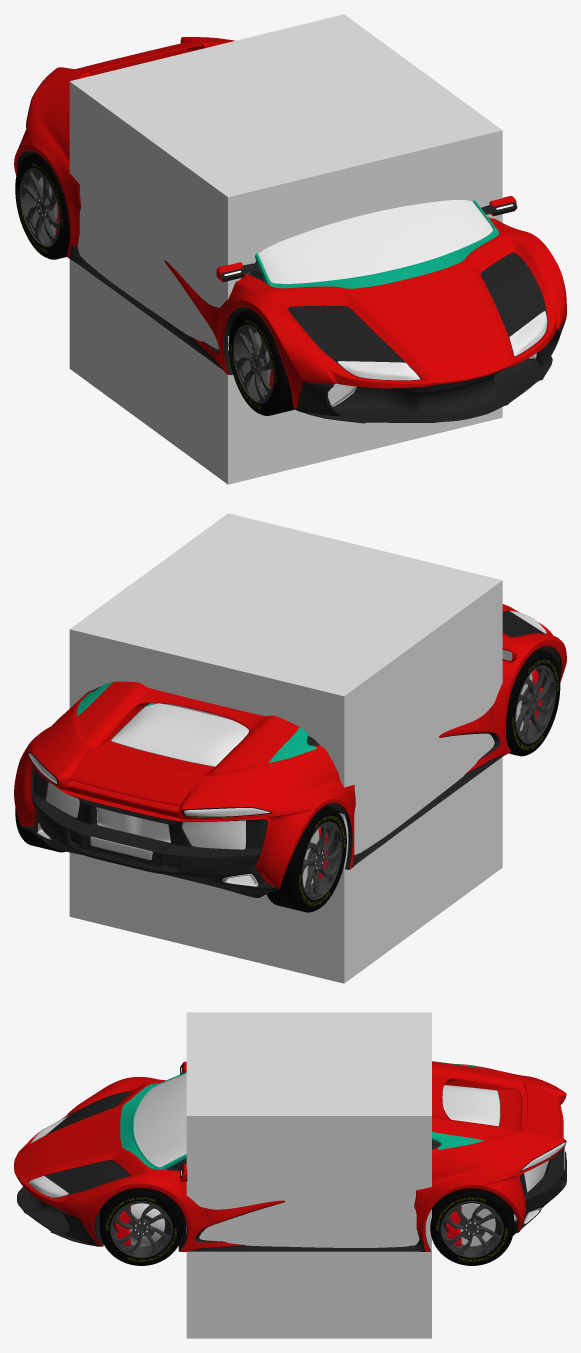
The model's file is CANCER CURING DRUG 100% REAL.glb.
The picture shows the model from 3 angles, top to bottom: view 1: azimuth 30°, elevation 25°; view 2: azimuth 150°, elevation 25°; view 3: azimuth 270°, elevation 25°; orthographic projection. The views are drawn at different scales.
Visible parts, largest first — view 1: Cube, carbody, wind shield, Circle.015, Circle.026, Circle.017, Front lights glass, Circle.024, spoiler, mirror 001.001, door 001.003; view 2: Cube, carbody, back window, spoiler, Circle.024, Back grill 001, Circle.026, Circle.017, Circle.015, Back grill 002, back light glass, back plate (+1 smaller); view 3: Cube, carbody, wind shield, Circle.007, Circle.004, Circle.010, back window, Circle.009, spoiler, door 002, Front lights glass, Circle.005 (+1 smaller).
Part boxes in pixels (x1,y1,x2,y2): Cube: (69,14,502,484); carbody: (14,37,566,423); wind shield: (258,200,493,283); Circle.015: (228,309,294,415); Circle.026: (19,168,60,247); Circle.017: (233,325,273,403); Front lights glass: (338,311,546,380); Circle.024: (15,153,69,259); spoiler: (75,42,202,72); mirror 001.001: (216,261,263,282); door 001.003: (164,260,216,324); Cube: (69,513,502,983); carbody: (14,604,566,897); back window: (111,703,248,766); spoiler: (71,747,201,805); Circle.024: (266,806,346,912); Back grill 001: (46,782,245,849); Circle.026: (302,821,342,899); Circle.017: (515,665,556,743); Circle.015: (506,649,560,756); Back grill 002: (96,807,170,842); back light glass: (28,753,270,816); back plate: (90,836,152,860); Cube: (186,1012,431,1338); carbody: (14,1061,566,1251); wind shield: (133,1073,186,1167); Circle.007: (99,1188,183,1265); Circle.004: (430,1188,513,1265); Circle.010: (440,1201,503,1257); back window: (442,1085,499,1126); Circle.009: (110,1201,172,1257); spoiler: (525,1085,560,1137); door 002: (204,1200,285,1224); Front lights glass: (28,1116,68,1197); Circle.005: (460,1203,495,1246).
Size of the model in its own units: 2.16 by 2 by 4.5.
